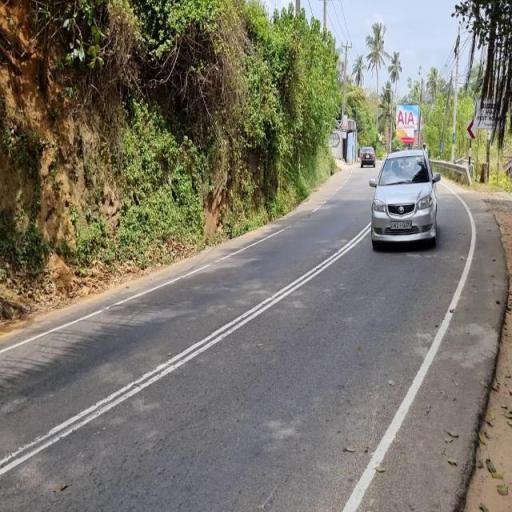double_white_line: (0, 208, 382, 482)
